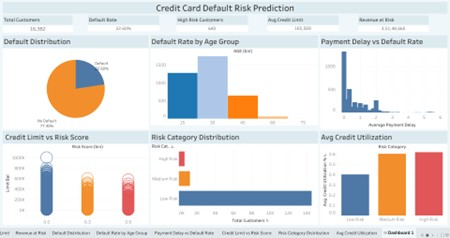

Layout of this report page (visuals, bound fields, positions):
{"tool":"tableau","page":{"name":"Dashboard 1","canvas":[1000,1000],"units":"permille","ordinal":0},"visuals":[{"type":"title","box":[5,10.7,990,77.7]},{"type":"worksheet","title":"Total Customers","mark":"Automatic","box":[5,88.5,198,113.9]},{"type":"worksheet","title":"Default Rate","mark":"Automatic","box":[203,88.5,198,100.5]},{"type":"worksheet","title":"High Risk Customers","mark":"Automatic","box":[401,88.5,198,113.9]},{"type":"worksheet","title":"Avg Credit Limit","mark":"Automatic","box":[599,88.5,198,113.9]},{"type":"worksheet","title":"Revenue at Risk","mark":"Automatic","box":[797,88.5,198,113.9]},{"type":"worksheet","title":"Default Distribution","mark":"Pie","box":[5,202.4,327.9,393.4]},{"type":"worksheet","title":"Default Rate by Age Group","mark":"Bar","rows":["Calculation_0460725349302278"],"cols":["AGE (bin)"],"box":[332.9,202.4,375.9,393.4]},{"type":"worksheet","title":"Payment Delay vs Default Rate","mark":"Bar","rows":["Calculation_0460725349302278"],"cols":["Calculation_0460725348786178"],"box":[708.8,202.4,286.2,393.4]},{"type":"worksheet","title":" Credit Limit vs Risk Score","mark":"Shape","rows":["LIMIT_BAL"],"cols":["Risk Score (bin)"],"box":[5,595.8,327.9,393.5]},{"type":"worksheet","title":"Risk Category Distribution","mark":"Automatic","rows":["Calculation_0460725349187589"],"cols":["Calculation_0460725349842952"],"box":[332.9,595.8,375.9,393.5]},{"type":"worksheet","title":"Avg Credit Utilization","mark":"Automatic","rows":["Calculation_0460725382823954"],"cols":["Calculation_0460725349187589"],"box":[708.8,595.8,286.2,393.5]}]}

Visuals, with their boxes on the dashboard's canvas, which has no fixed pixel size, in thousandths of its width and height (x1, y1, x2, y2). These are canvas units, not pixel positions in the 450x238 screenshot, which may show the page scaled, cropped or inside an application window:
title: (5, 11, 995, 88)
"Total Customers" worksheet: (5, 88, 203, 202)
"Default Rate" worksheet: (203, 88, 401, 189)
"High Risk Customers" worksheet: (401, 88, 599, 202)
"Avg Credit Limit" worksheet: (599, 88, 797, 202)
"Revenue at Risk" worksheet: (797, 88, 995, 202)
"Default Distribution" worksheet (Pie marks): (5, 202, 333, 596)
"Default Rate by Age Group" worksheet (Bar marks): (333, 202, 709, 596)
"Payment Delay vs Default Rate" worksheet (Bar marks): (709, 202, 995, 596)
" Credit Limit vs Risk Score" worksheet (Shape marks): (5, 596, 333, 989)
"Risk Category Distribution" worksheet: (333, 596, 709, 989)
"Avg Credit Utilization" worksheet: (709, 596, 995, 989)
